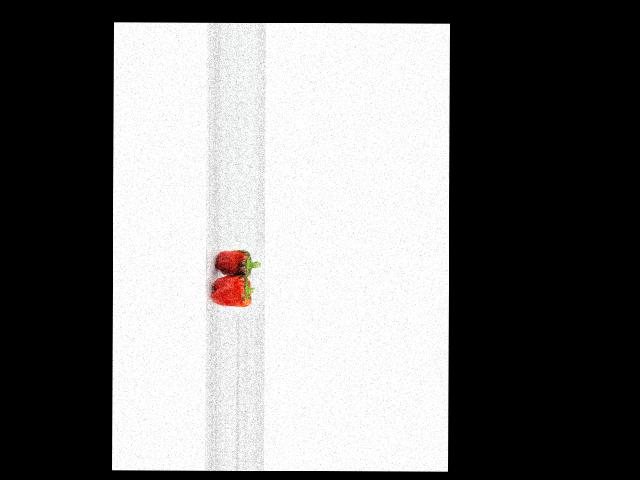bell_pepper: (211, 275, 257, 312)
